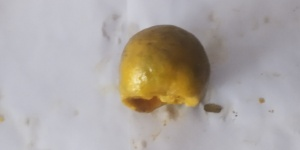BAD: (120, 22, 208, 118)
